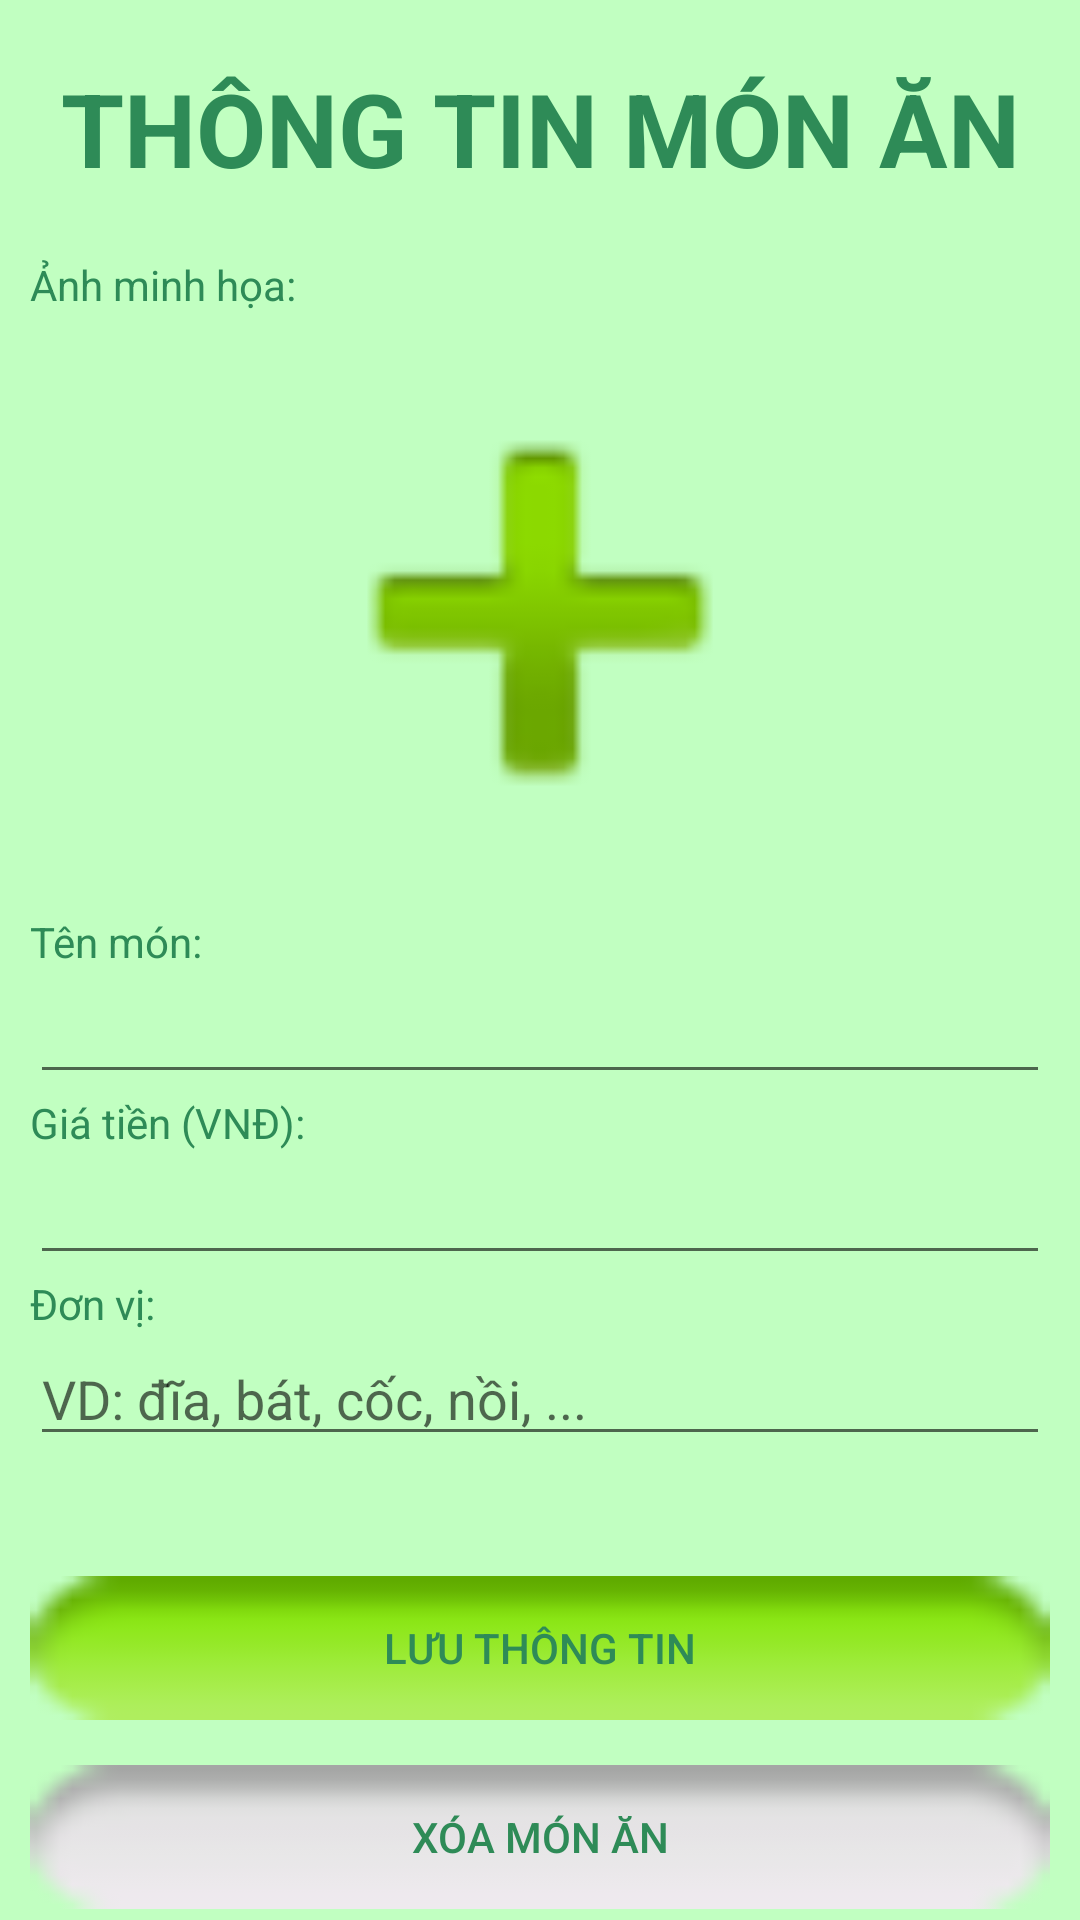

Screen size 1080×1920. Icon name, then its center in pixels as point (x, y):
add: point (540, 612)
